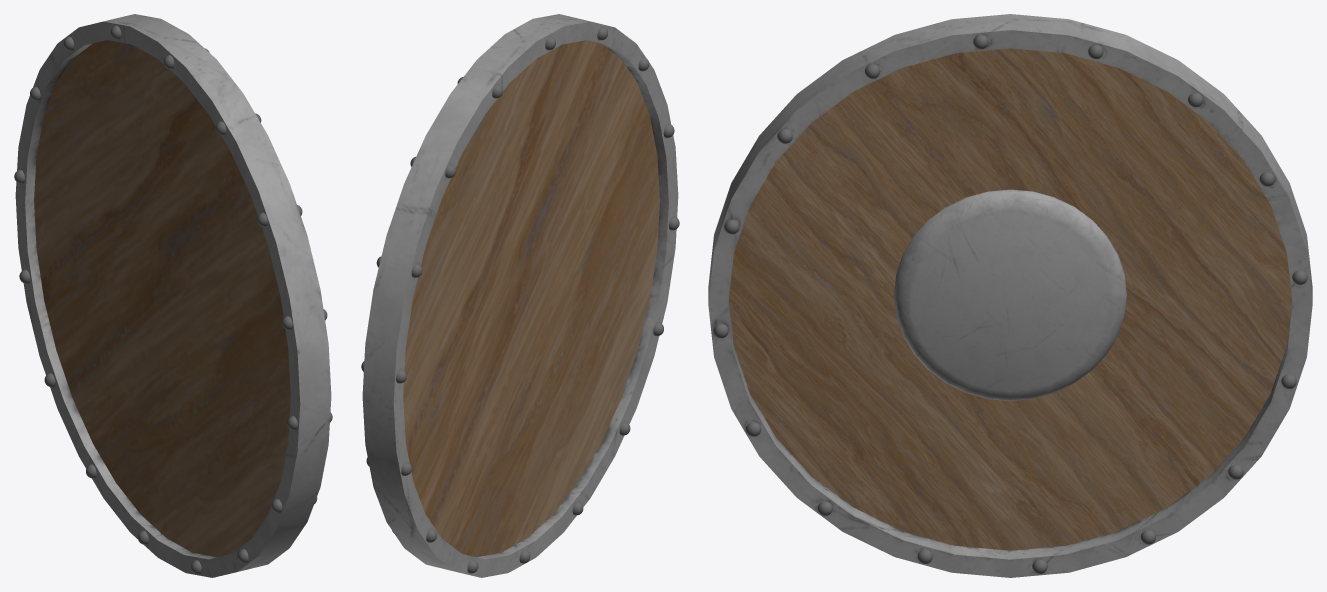
The model's file is Shield 1.fbx.
The picture shows the model from 3 angles, left to right: view 1: azimuth 30°, elevation 25°; view 2: azimuth 150°, elevation 25°; view 3: azimuth 270°, elevation 25°; orthographic projection. The views are drawn at different scales.
Visible parts, largest first — view 1: Circle.008; view 2: Circle.008; view 3: Circle.008.
Boxes of the visible parts, x1,y1,x2,y2 form: Circle.008: (14, 14, 332, 577); Circle.008: (361, 14, 679, 577); Circle.008: (708, 14, 1312, 577).
Size of the model in its own units: 17.72 by 200 by 200.
